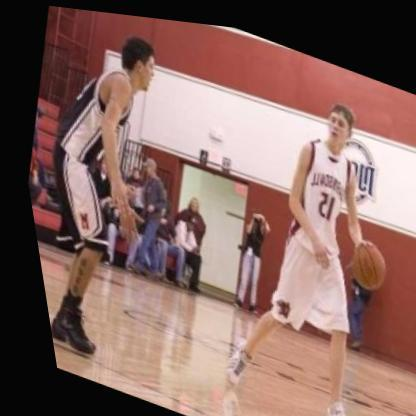basketball: (334, 228, 387, 285)
